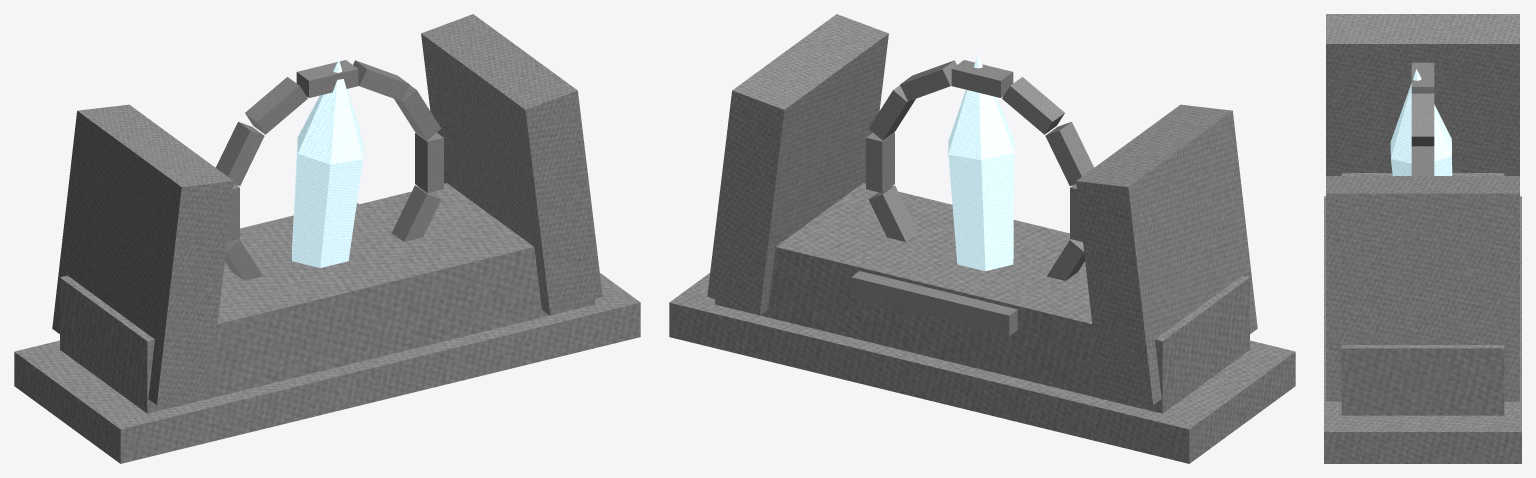
Rendered from runic-keelstone.glb.
The picture shows the model from 3 angles, left to right: view 1: azimuth 30°, elevation 25°; view 2: azimuth 150°, elevation 25°; view 3: azimuth 270°, elevation 25°; orthographic projection. The views are drawn at different scales.
Parts seen in each view (by area): view 1: keel-block, left-clamp, right-clamp, iron-foot, keel-crystal, keel-ring-4, keel-ring-5, keel-ring-11, keel-ring-0, keel-ring-3, keel-ring-2, keel-ring-1 (+1 smaller); view 2: keel-block, left-clamp, right-clamp, iron-foot, keel-crystal, fore-rune, keel-ring-4, keel-ring-5, keel-ring-3, keel-ring-11, keel-ring-0, keel-ring-2 (+2 smaller); view 3: right-clamp, left-clamp, keel-block, iron-foot, keel-crystal, keel-ring-2, keel-ring-1, keel-ring-3.
Boxes of the visible parts, x1,y1,x2,y2 form: keel-block: (60, 183, 594, 413); left-clamp: (52, 104, 233, 405); right-clamp: (421, 14, 602, 315); iron-foot: (14, 273, 640, 463); keel-crystal: (292, 60, 363, 267); keel-ring-4: (245, 77, 307, 134); keel-ring-5: (215, 121, 264, 185); keel-ring-11: (392, 185, 441, 241); keel-ring-0: (415, 132, 443, 192); keel-ring-3: (296, 60, 358, 97); keel-ring-2: (353, 60, 409, 101); keel-ring-1: (394, 85, 441, 140); keel-block: (715, 183, 1249, 413); left-clamp: (1076, 104, 1257, 405); right-clamp: (707, 14, 888, 315); iron-foot: (669, 273, 1295, 463); keel-crystal: (948, 55, 1014, 271); fore-rune: (851, 271, 1017, 336); keel-ring-4: (1002, 77, 1064, 134); keel-ring-5: (1045, 121, 1094, 185); keel-ring-3: (951, 60, 1013, 97); keel-ring-11: (868, 185, 917, 241); keel-ring-0: (866, 132, 894, 192); keel-ring-2: (900, 60, 956, 101); right-clamp: (1326, 176, 1519, 401); left-clamp: (1326, 14, 1519, 175); keel-block: (1341, 173, 1504, 415); iron-foot: (1324, 196, 1521, 463); keel-crystal: (1390, 69, 1452, 175); keel-ring-2: (1411, 93, 1434, 146); keel-ring-1: (1411, 146, 1434, 175); keel-ring-3: (1411, 64, 1434, 93).
Bounding box in the file's own units: 1.58 × 0.8787 × 0.56.
6 materials, 6 textured.
